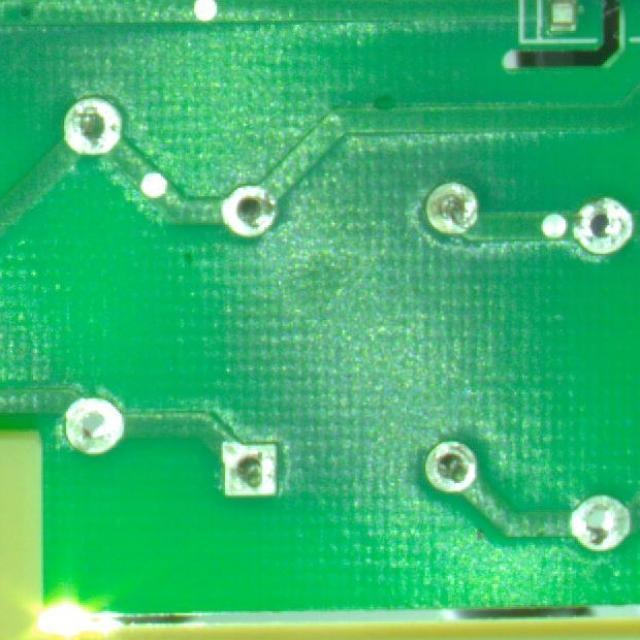Insufficient solder: (212, 430, 292, 505), (50, 384, 128, 460), (421, 424, 484, 497), (561, 488, 635, 550), (55, 96, 125, 158), (216, 176, 278, 246), (570, 184, 624, 256), (426, 177, 484, 234)
